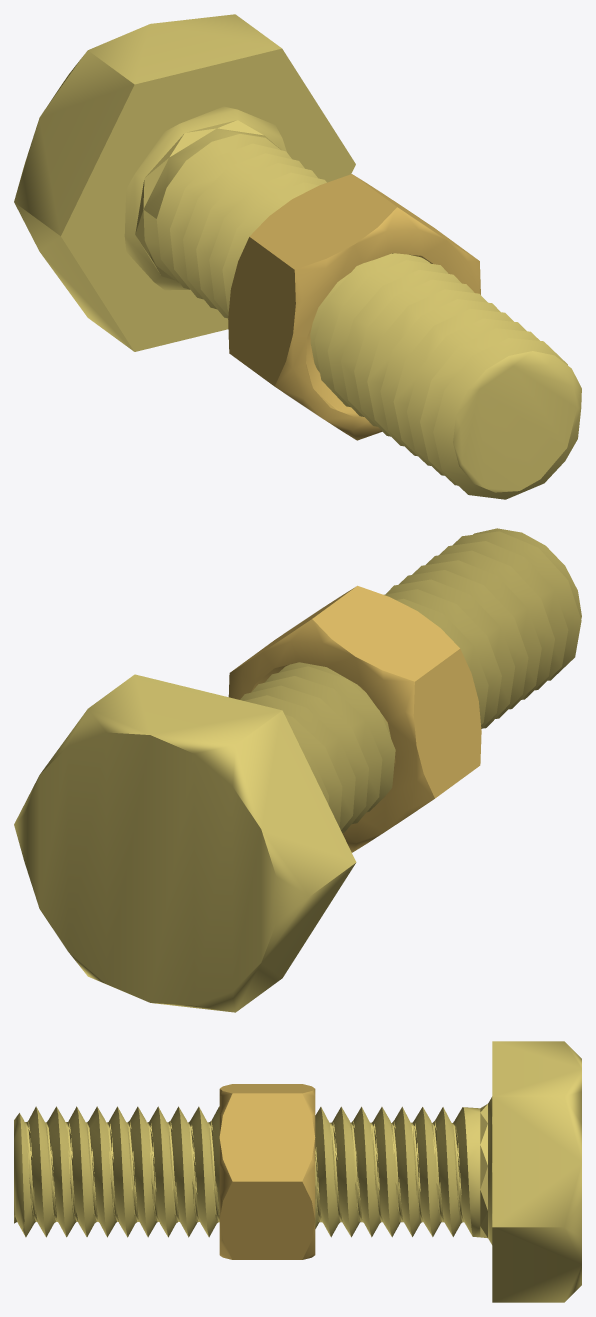
The picture shows the model from 3 angles, top to bottom: view 1: azimuth 30°, elevation 25°; view 2: azimuth 150°, elevation 25°; view 3: azimuth 270°, elevation 25°; orthographic projection. The views are drawn at different scales.
Visible parts, largest first — view 1: Object_2; view 2: Object_2; view 3: Object_2.
Boxes of the visible parts, x1,y1,x2,y2 form: Object_2: (14,14,581,499); Object_2: (14,528,581,1012); Object_2: (14,1041,581,1302).
Bounding box in the file's own units: 2.19 × 1.9 × 4.75.
